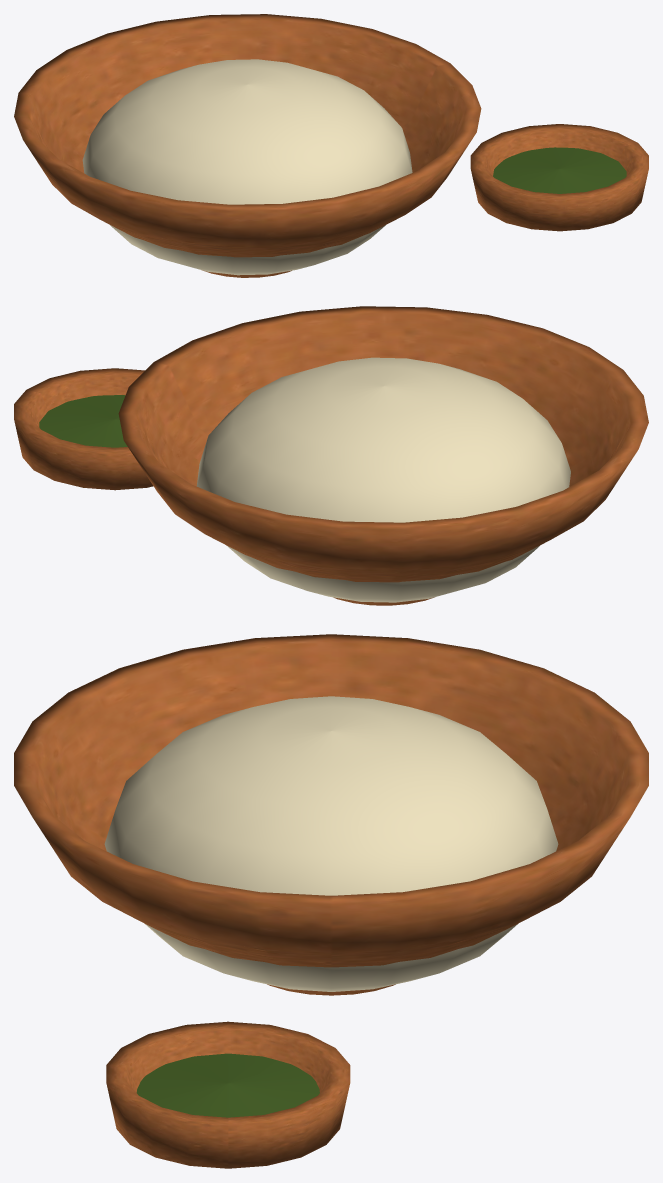
3 renders of one model, top to bottom at view 1: azimuth 30°, elevation 25°; view 2: azimuth 150°, elevation 25°; view 3: azimuth 270°, elevation 25°, orthographic. The views are drawn at different scales.
Visible parts, largest first — view 1: to; view 2: to; view 3: to.
Part boxes in pixels (x1,y1,x2,y2): to: (14, 14, 648, 277); to: (14, 306, 648, 605); to: (14, 634, 648, 1168).
Size of the model in its own units: 0.85 by 0.242 by 0.6155.
3 materials, 1 textured.
